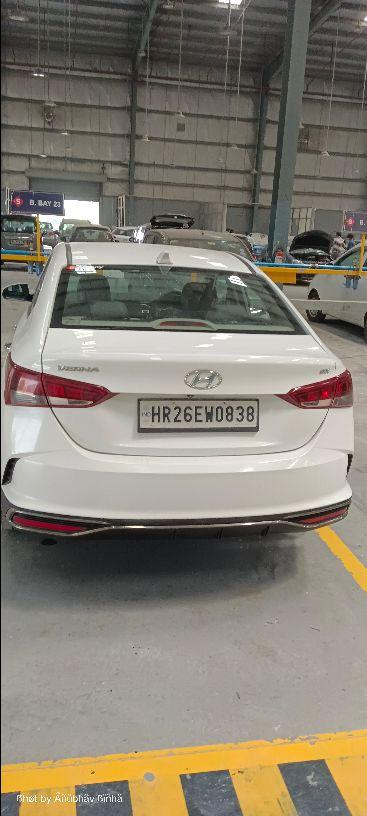license_plate: (136, 396, 259, 432)
